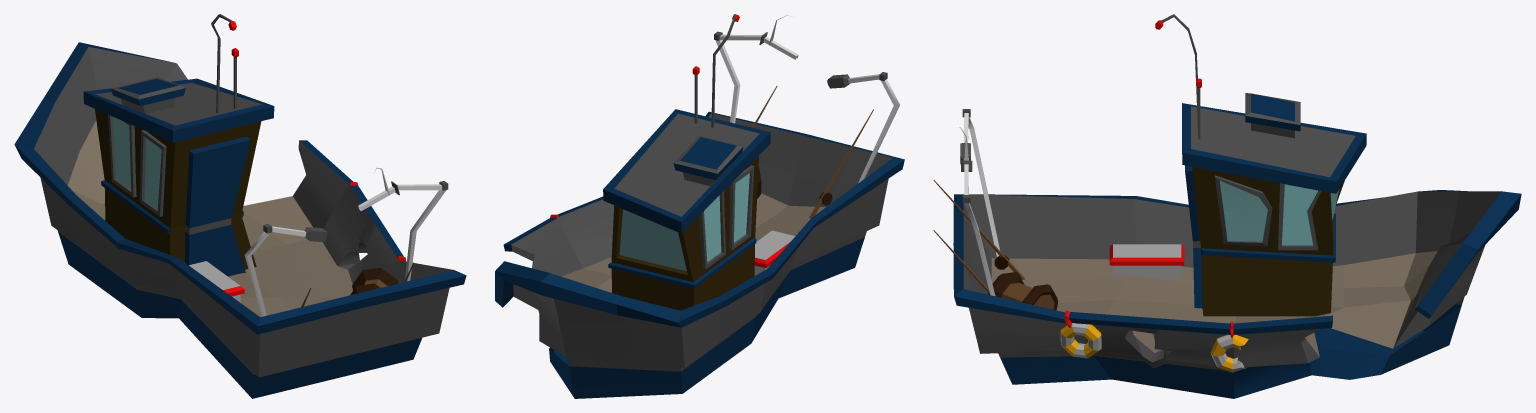
The model's file is Sunken_Ship.fbx.
3 renders of one model, left to right at view 1: azimuth 30°, elevation 25°; view 2: azimuth 150°, elevation 25°; view 3: azimuth 270°, elevation 25°, orthographic. The views are drawn at different scales.
Visible parts, largest first — view 1: Barco:pCube19; view 2: Barco:pCube19; view 3: Barco:pCube19.
Boxes of the visible parts, <box> form: Barco:pCube19: <box>14,14,466,398</box>; Barco:pCube19: <box>495,14,904,398</box>; Barco:pCube19: <box>933,14,1521,398</box>.
Size of the model in its own units: 5.91 by 7.25 by 12.28.
